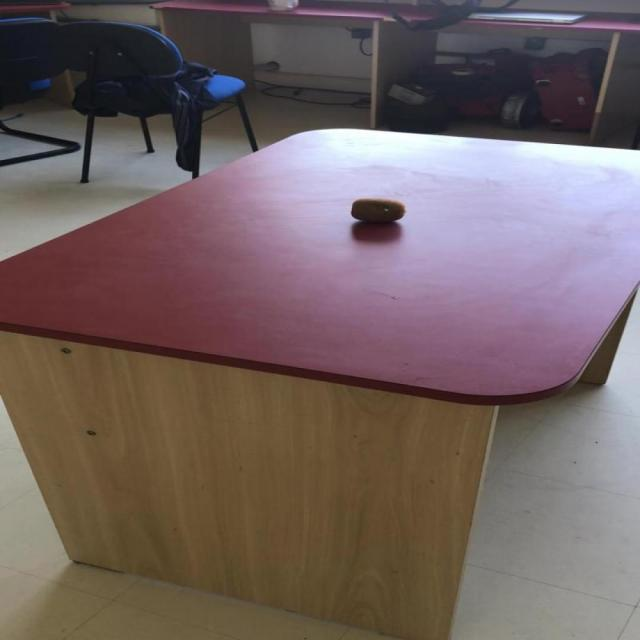Kiwi: (350, 197, 405, 222)
